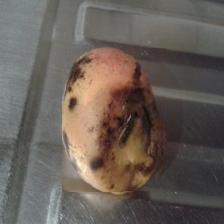Mango Semirotten: (63, 48, 168, 192)
